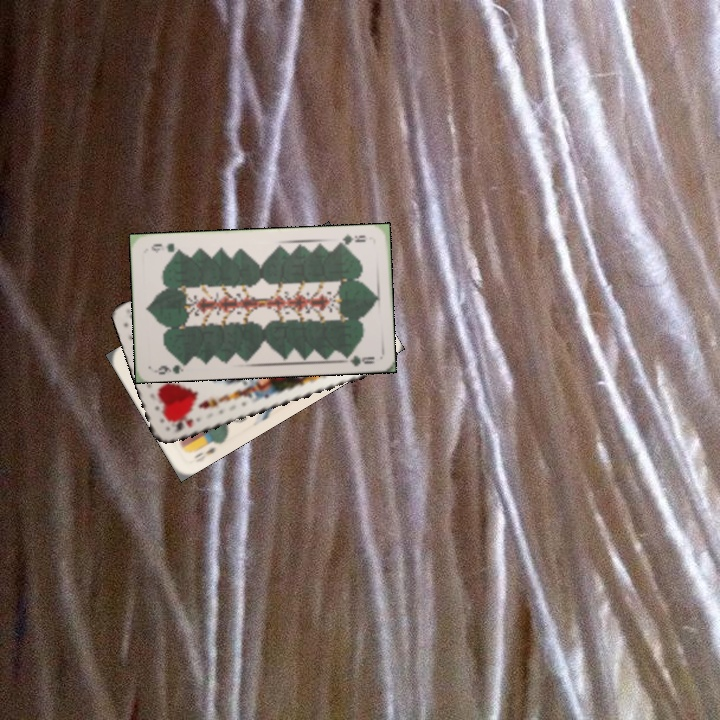EO: (184, 437, 222, 461)
G9: (154, 356, 190, 377), (333, 230, 368, 248)
HK: (168, 414, 196, 434)
